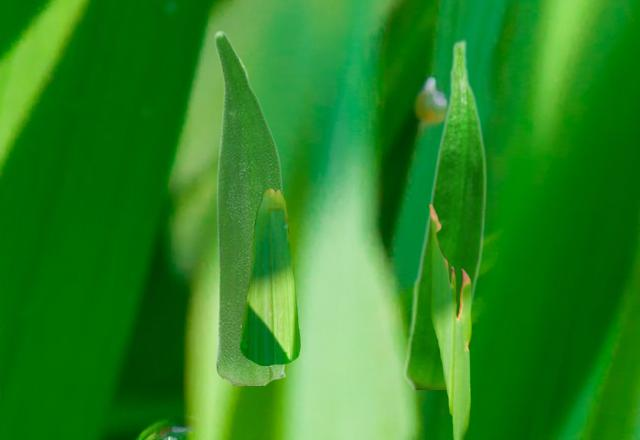okra: (403, 38, 487, 388), (214, 30, 284, 384)
